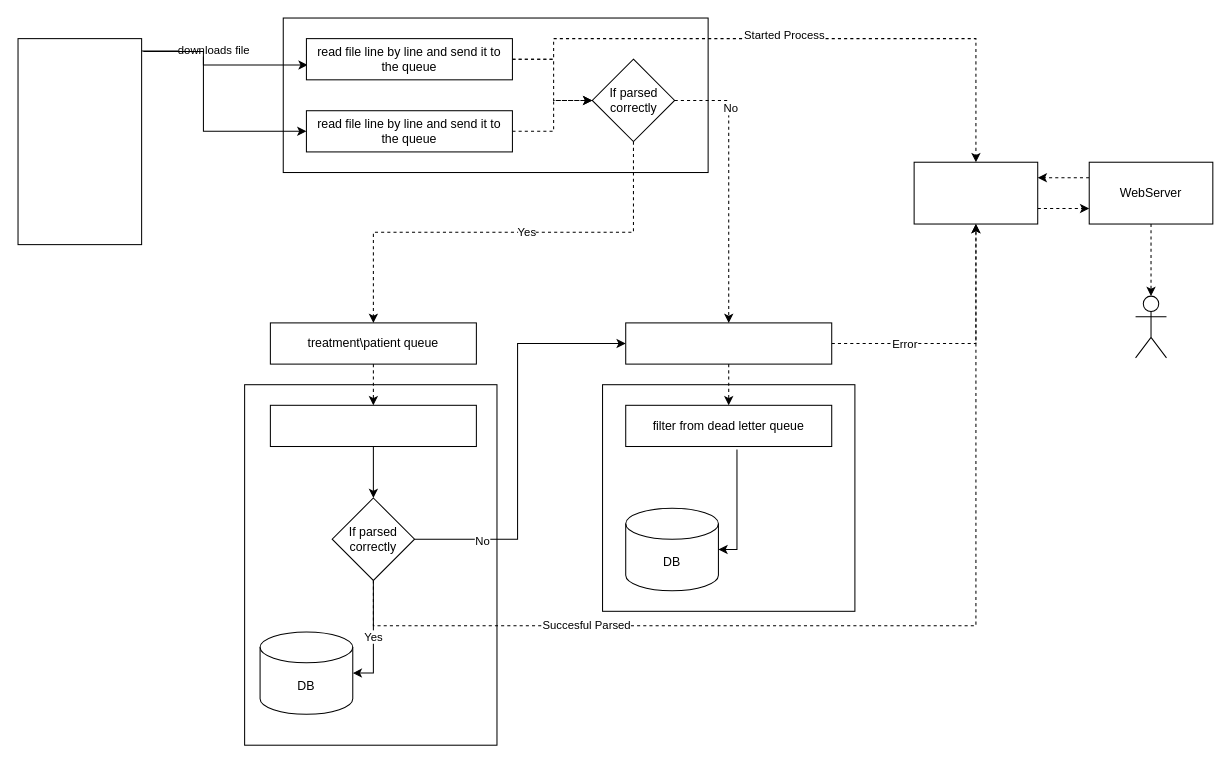
This 1231x763 diagram has some shape labels left out. The shapes that lost their labels are listed below. From the top down, each one's centre as x and y in pixels, then its label:
point (79, 141): Files Storage
point (975, 192): UI topic
point (728, 343): dead letter queue
point (1150, 326): Actor
point (372, 425): filter from patient\treatment topic specific type of messages and process it
